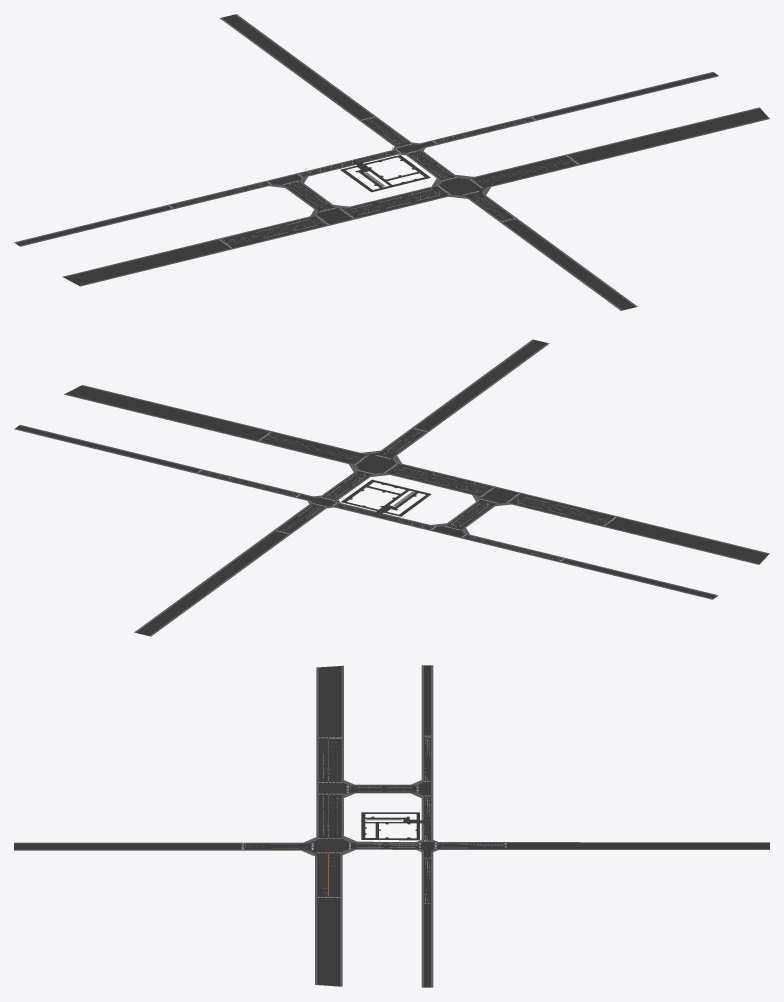
The picture shows the model from 3 angles, top to bottom: view 1: azimuth 30°, elevation 25°; view 2: azimuth 150°, elevation 25°; view 3: azimuth 270°, elevation 25°; orthographic projection. The views are drawn at different scales.
Visible parts, largest first — view 1: Obj3d66-7470555-358-894, Obj3d66-7470555-363-176, Obj3d66-7470555-359-452, Obj3d66-7470555-1523-723; view 2: Obj3d66-7470555-358-894, Obj3d66-7470555-363-176, Obj3d66-7470555-359-452; view 3: Obj3d66-7470555-358-894, Obj3d66-7470555-363-176, Obj3d66-7470555-359-452, Obj3d66-7470555-1523-723.
Part boxes in pixels (left/top/right/bottom): Obj3d66-7470555-358-894: left=15, top=14, right=769, bottom=310; Obj3d66-7470555-363-176: left=14, top=14, right=769, bottom=310; Obj3d66-7470555-359-452: left=340, top=155, right=430, bottom=192; Obj3d66-7470555-1523-723: left=169, top=117, right=578, bottom=248; Obj3d66-7470555-358-894: left=15, top=340, right=768, bottom=635; Obj3d66-7470555-363-176: left=14, top=339, right=769, bottom=636; Obj3d66-7470555-359-452: left=341, top=479, right=431, bottom=516; Obj3d66-7470555-358-894: left=14, top=665, right=769, bottom=987; Obj3d66-7470555-363-176: left=14, top=665, right=769, bottom=987; Obj3d66-7470555-359-452: left=361, top=812, right=421, bottom=840; Obj3d66-7470555-1523-723: left=241, top=735, right=506, bottom=903.
Size of the model in its own units: 1387 by 8.36 by 1376.
7 materials, 2 textured.
